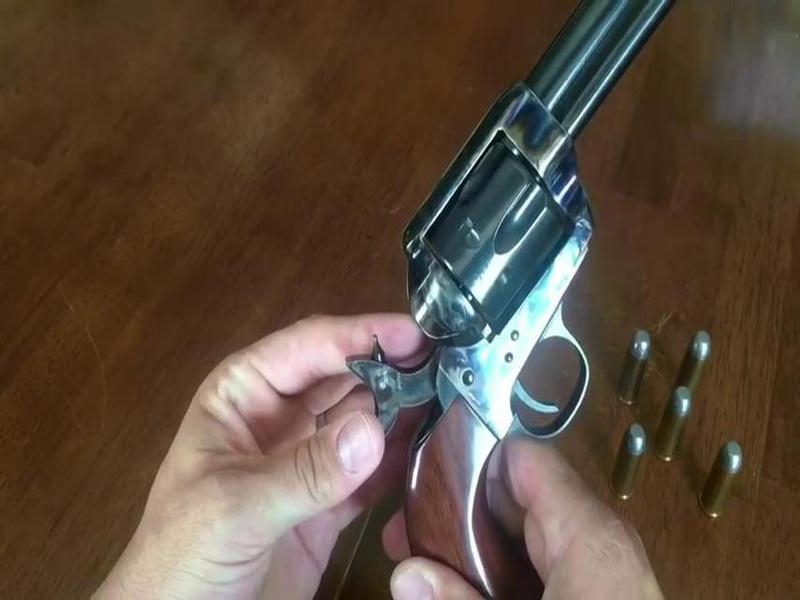Revolver: (345, 4, 617, 545)
